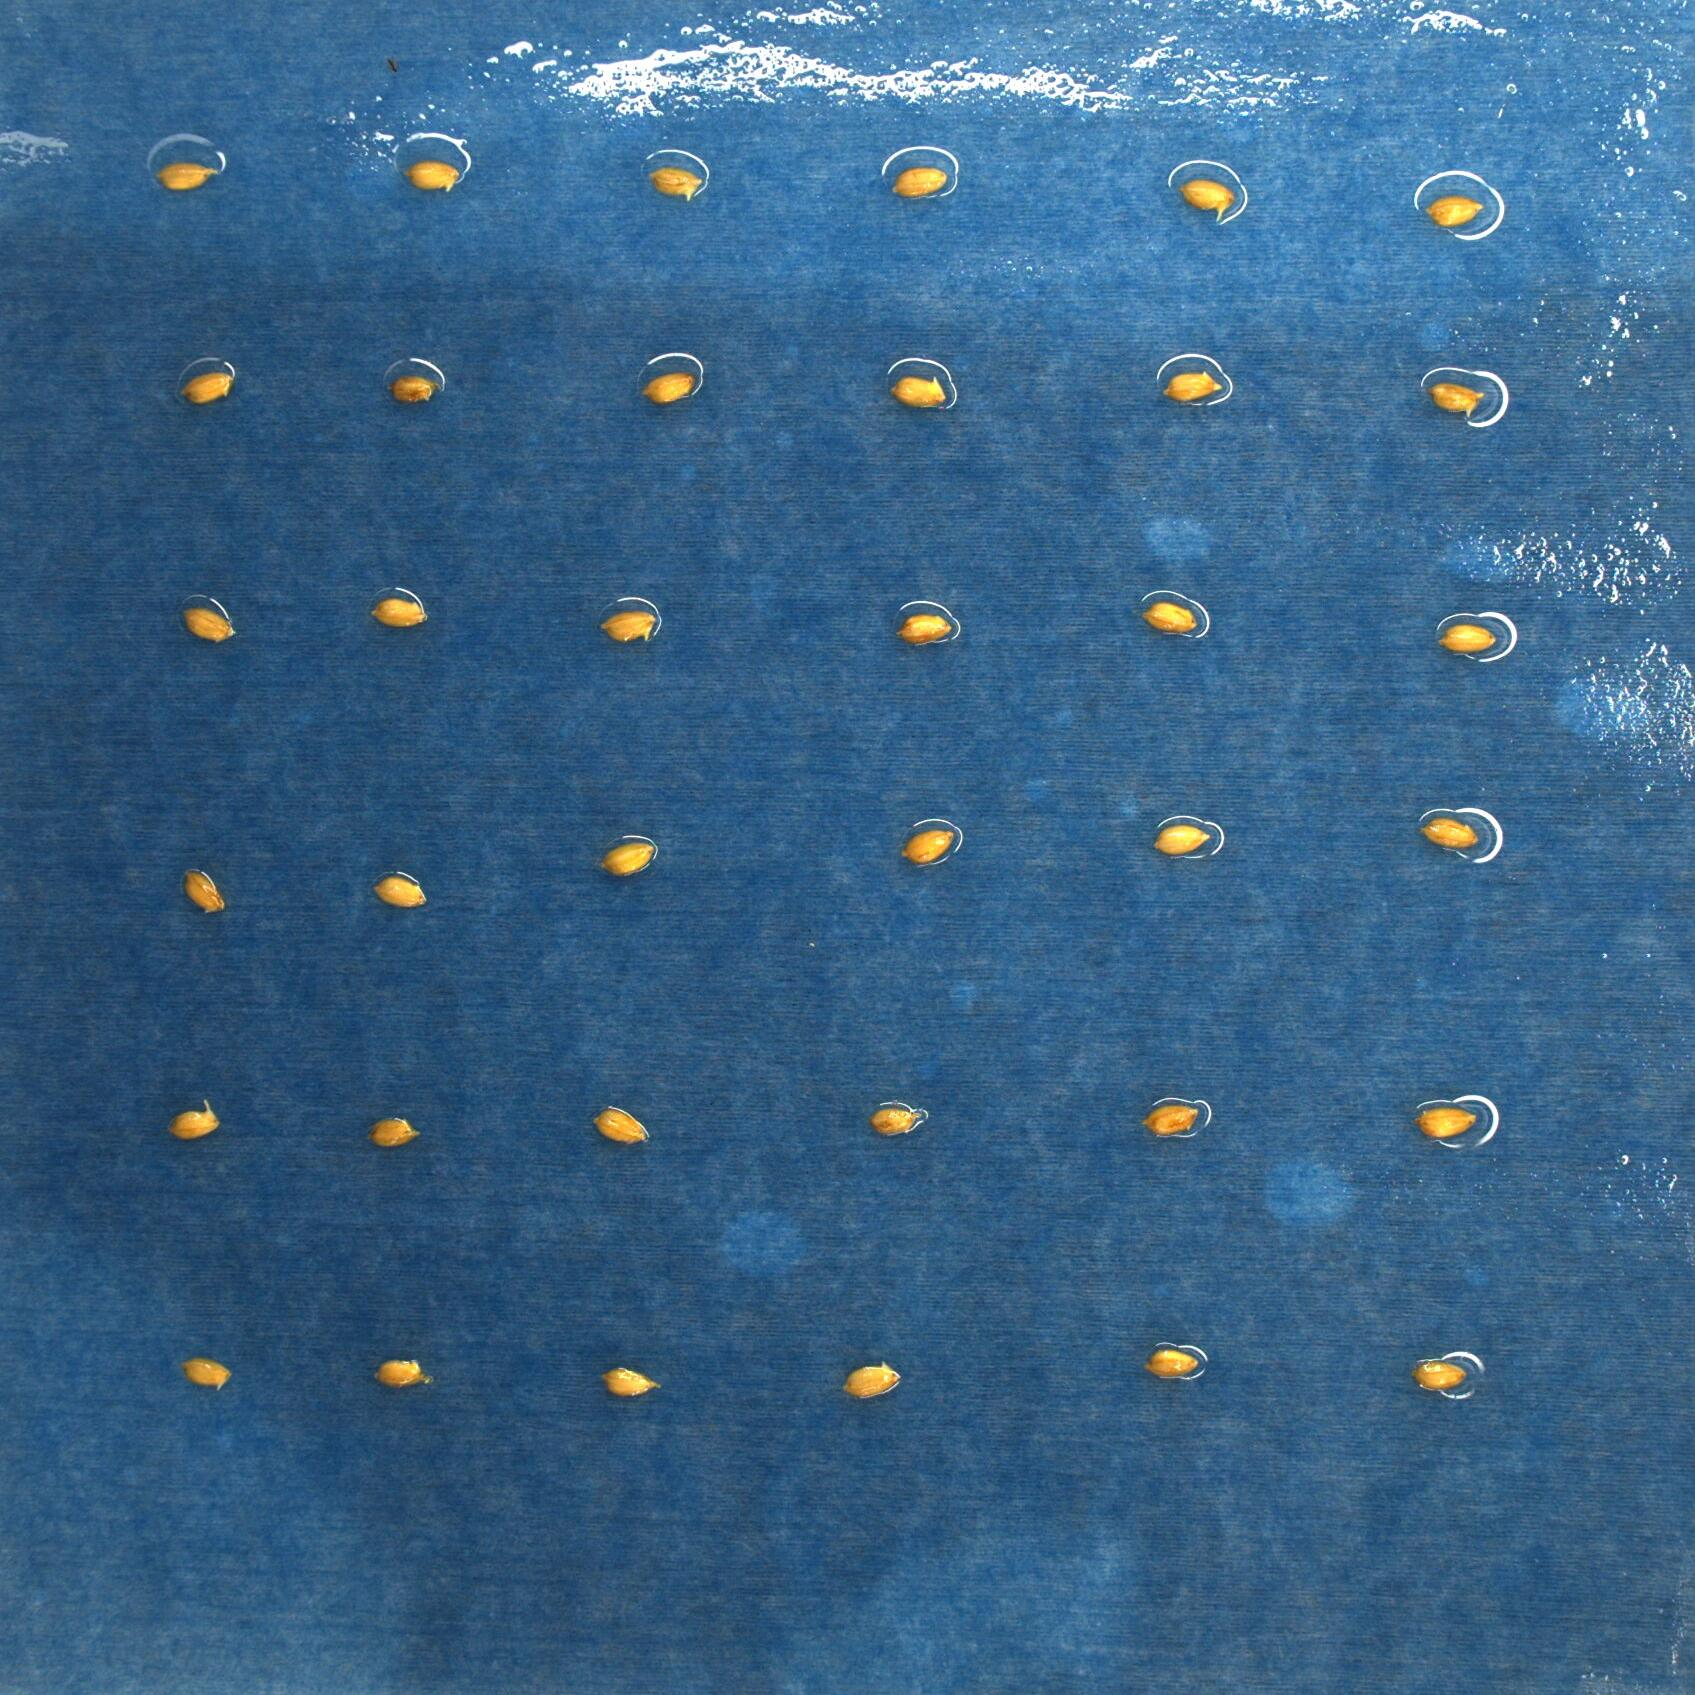not sprout: (587, 1105, 652, 1149), (1177, 174, 1234, 220), (899, 823, 958, 868), (1412, 1101, 1479, 1139), (596, 1364, 664, 1402), (598, 837, 658, 879), (1419, 812, 1482, 851), (1139, 598, 1200, 638), (161, 1101, 224, 1139), (365, 594, 432, 630), (640, 163, 703, 200), (1159, 366, 1223, 404), (596, 608, 660, 646), (886, 374, 951, 410), (366, 874, 432, 910), (1423, 192, 1485, 230), (1152, 818, 1214, 855), (1426, 379, 1485, 418), (841, 1363, 900, 1402), (1434, 621, 1503, 653), (182, 869, 225, 920), (1139, 1104, 1201, 1139), (896, 608, 955, 646), (182, 605, 236, 646), (363, 1114, 421, 1150), (179, 1357, 236, 1392), (151, 160, 217, 189), (640, 369, 694, 405), (397, 160, 463, 189), (891, 165, 947, 199), (868, 1104, 924, 1138), (179, 369, 231, 405), (1411, 1361, 1471, 1392), (369, 1358, 428, 1389), (1142, 1347, 1201, 1378), (391, 376, 436, 404)
